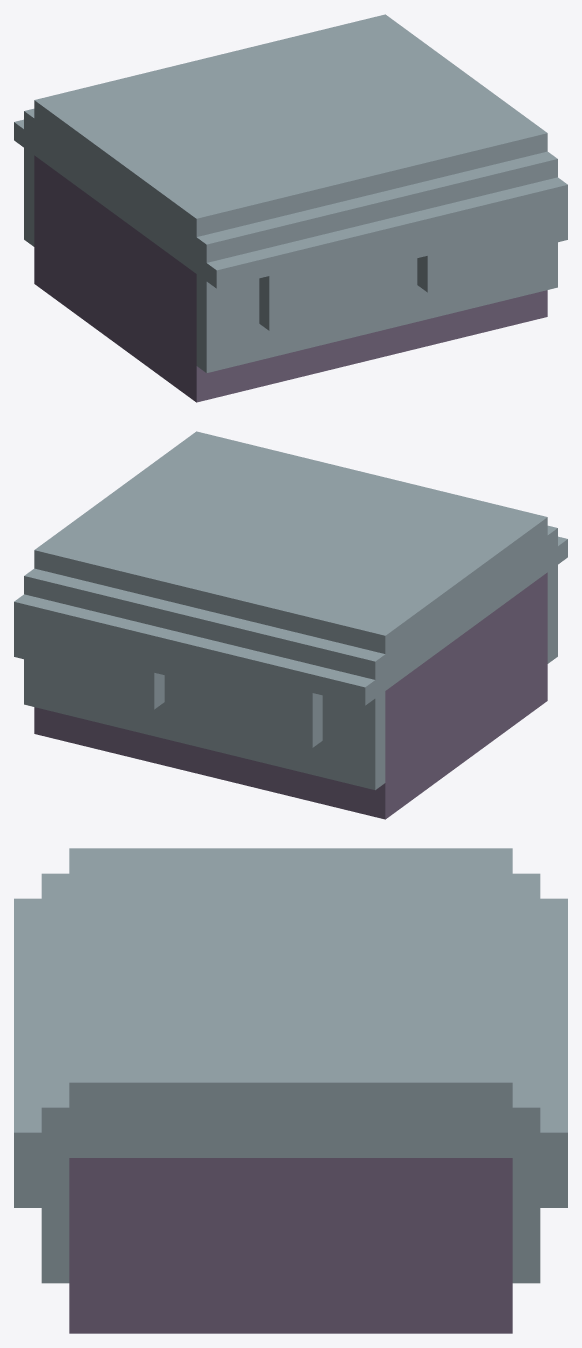
File: Floors-16.obj
3 views of the same model, one above another, from view 1: azimuth 30°, elevation 25°; view 2: azimuth 150°, elevation 25°; view 3: azimuth 270°, elevation 25° (orthographic). The views are drawn at different scales.
Size of the model in its own units: 2 by 1 by 2.
Materials: 1 (1 with a texture image).
